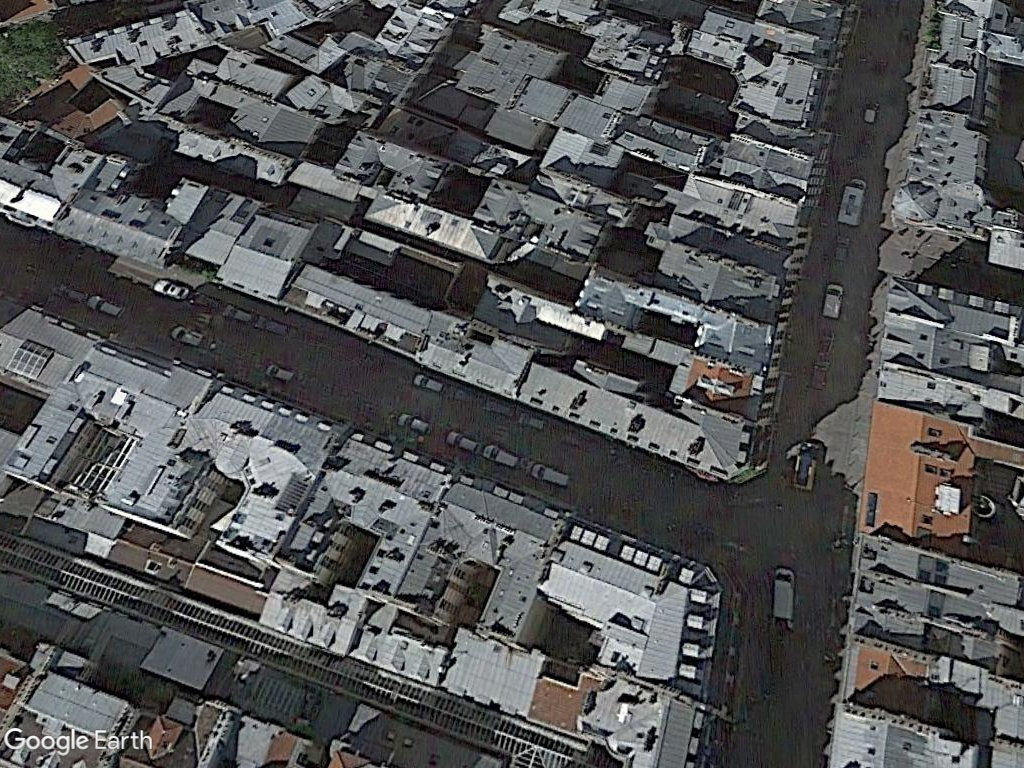car: (147, 271, 196, 304), (525, 459, 573, 491), (84, 288, 129, 321), (481, 438, 523, 471), (396, 409, 436, 441), (442, 425, 481, 456), (168, 322, 210, 350), (410, 368, 450, 397), (261, 357, 300, 386)
other: (789, 435, 818, 494)
truck: (836, 172, 866, 233), (771, 562, 795, 620), (820, 281, 848, 322)
